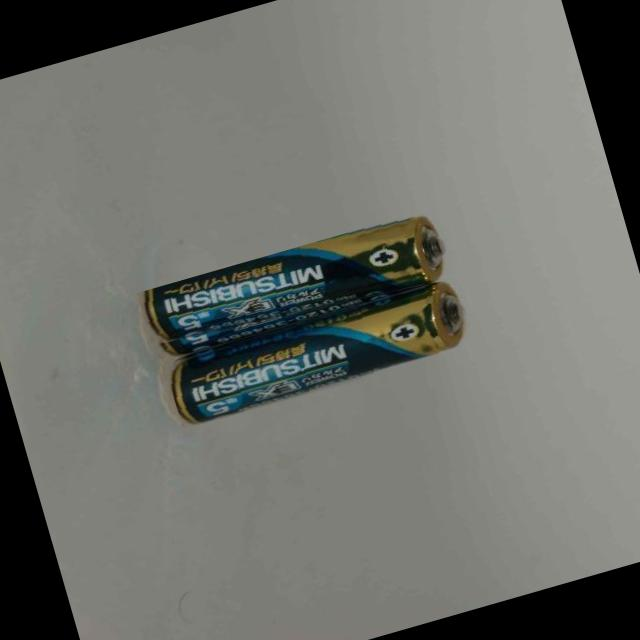Hazard: (135, 206, 458, 363), (162, 276, 476, 430)
